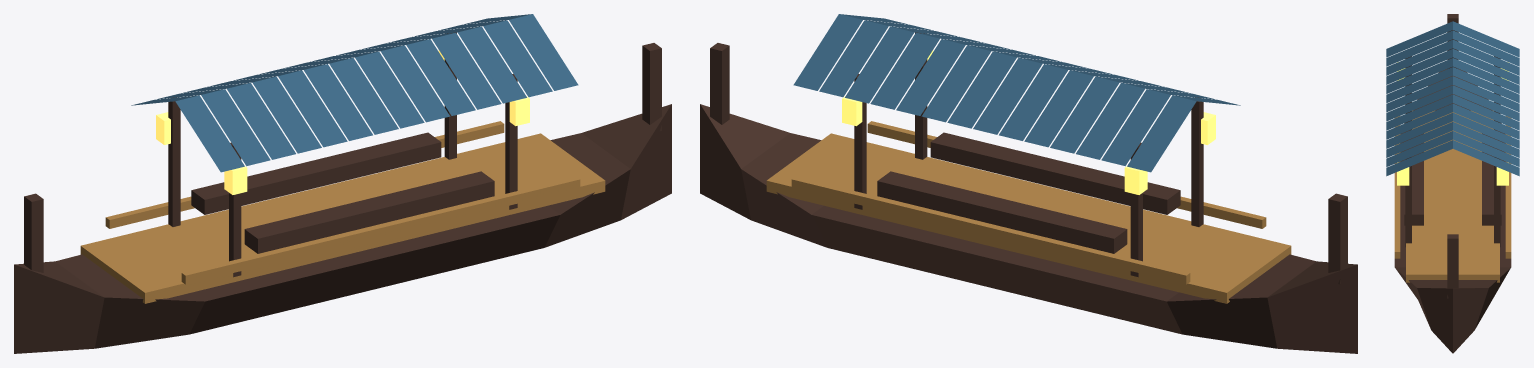
File: castle-tour-boat.glb
The picture shows the model from 3 angles, left to right: view 1: azimuth 30°, elevation 25°; view 2: azimuth 150°, elevation 25°; view 3: azimuth 270°, elevation 25°; orthographic projection. The views are drawn at different scales.
Parts seen in each view (by area): view 1: castle-tour-boat-hull, deck, passenger-bench, passenger-bench.001, gunwale, blue-roof-tile.004, blue-roof-tile.007, blue-roof-tile.012, blue-roof-tile.009, blue-roof-tile.008, blue-roof-tile.005, blue-roof-tile (+16 smaller); view 2: castle-tour-boat-hull, deck, passenger-bench.001, passenger-bench, gunwale.001, blue-roof-tile.004, blue-roof-tile.007, blue-roof-tile.012, blue-roof-tile.009, blue-roof-tile.008, blue-roof-tile.005, blue-roof-tile (+16 smaller); view 3: deck, castle-tour-boat-hull, blue-roof-tile.001, blue-roof-tile.002, blue-roof-tile.008, blue-roof-tile.009, blue-roof-tile.013, blue-roof-tile, blue-roof-tile.003, blue-roof-tile.004, blue-roof-tile.005, blue-roof-tile.006 (+14 smaller).
Part boxes in pixels (left/top/right/bottom): castle-tour-boat-hull: left=14, top=104, right=671, bottom=353; deck: left=80, top=133, right=605, bottom=303; passenger-bench: left=244, top=171, right=494, bottom=253; passenger-bench.001: left=191, top=132, right=441, bottom=214; gunwale: left=181, top=176, right=580, bottom=284; blue-roof-tile.004: left=233, top=70, right=347, bottom=147; blue-roof-tile.007: left=310, top=51, right=424, bottom=128; blue-roof-tile.012: left=438, top=20, right=552, bottom=97; blue-roof-tile.009: left=362, top=39, right=475, bottom=115; blue-roof-tile.008: left=336, top=45, right=450, bottom=122; blue-roof-tile.005: left=259, top=64, right=372, bottom=140; blue-roof-tile: left=131, top=95, right=244, bottom=172; castle-tour-boat-hull: left=700, top=104, right=1357, bottom=353; deck: left=766, top=133, right=1291, bottom=303; passenger-bench.001: left=877, top=171, right=1127, bottom=253; passenger-bench: left=930, top=132, right=1180, bottom=214; gunwale.001: left=791, top=176, right=1190, bottom=284; blue-roof-tile.004: left=1024, top=70, right=1138, bottom=147; blue-roof-tile.007: left=947, top=51, right=1061, bottom=128; blue-roof-tile.012: left=819, top=20, right=933, bottom=97; blue-roof-tile.009: left=896, top=39, right=1009, bottom=115; blue-roof-tile.008: left=921, top=45, right=1035, bottom=122; blue-roof-tile.005: left=999, top=64, right=1112, bottom=140; blue-roof-tile: left=1127, top=95, right=1240, bottom=172; deck: left=1406, top=110, right=1499, bottom=282; castle-tour-boat-hull: left=1394, top=69, right=1511, bottom=353; blue-roof-tile.001: left=1386, top=30, right=1519, bottom=66; blue-roof-tile.002: left=1386, top=39, right=1519, bottom=75; blue-roof-tile.008: left=1386, top=94, right=1519, bottom=130; blue-roof-tile.009: left=1386, top=103, right=1519, bottom=139; blue-roof-tile.013: left=1386, top=140, right=1519, bottom=176; blue-roof-tile: left=1386, top=21, right=1519, bottom=57; blue-roof-tile.003: left=1386, top=49, right=1519, bottom=84; blue-roof-tile.004: left=1386, top=58, right=1519, bottom=93; blue-roof-tile.005: left=1386, top=67, right=1519, bottom=102; blue-roof-tile.006: left=1386, top=76, right=1519, bottom=112.
Bounding box in the file's own units: 10 × 3.1 × 2.4.
